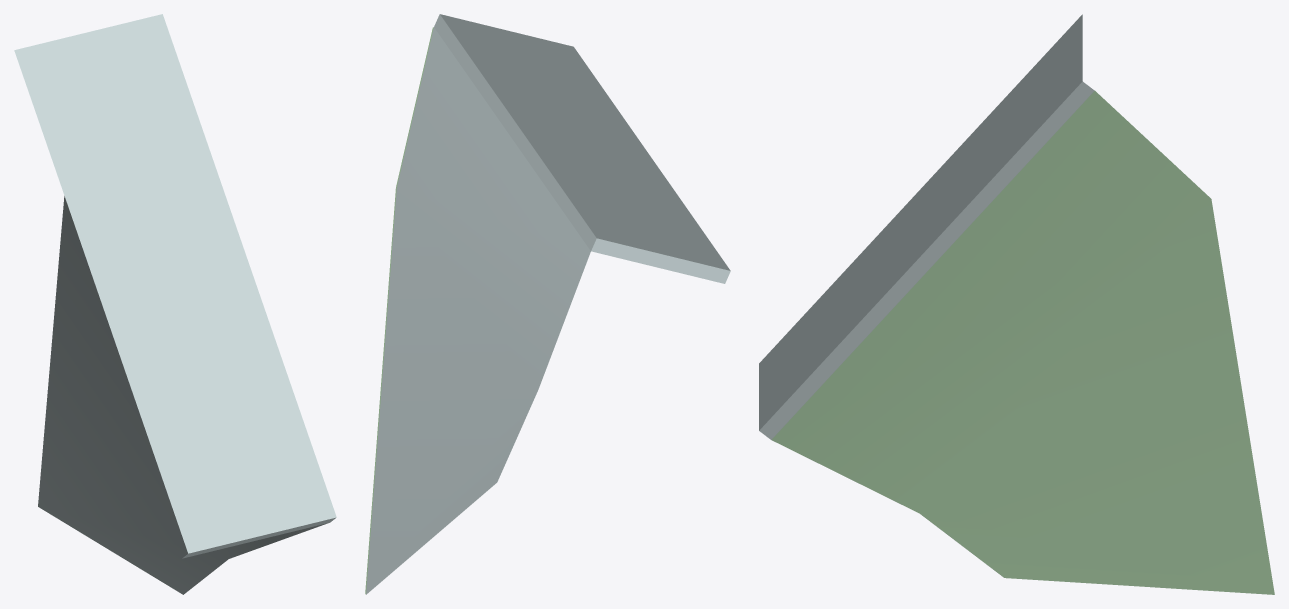
The picture shows the model from 3 angles, left to right: view 1: azimuth 30°, elevation 25°; view 2: azimuth 150°, elevation 25°; view 3: azimuth 270°, elevation 25°; orthographic projection. The views are drawn at different scales.
Visible parts, largest first — view 1: Object13; view 2: Object13; view 3: Object13.
Part boxes in pixels (bbox=[...]): Object13: bbox=[14, 14, 336, 594]; Object13: bbox=[365, 14, 730, 594]; Object13: bbox=[759, 14, 1274, 594].
Bounding box in the file's own units: 117 × 422 × 377.
